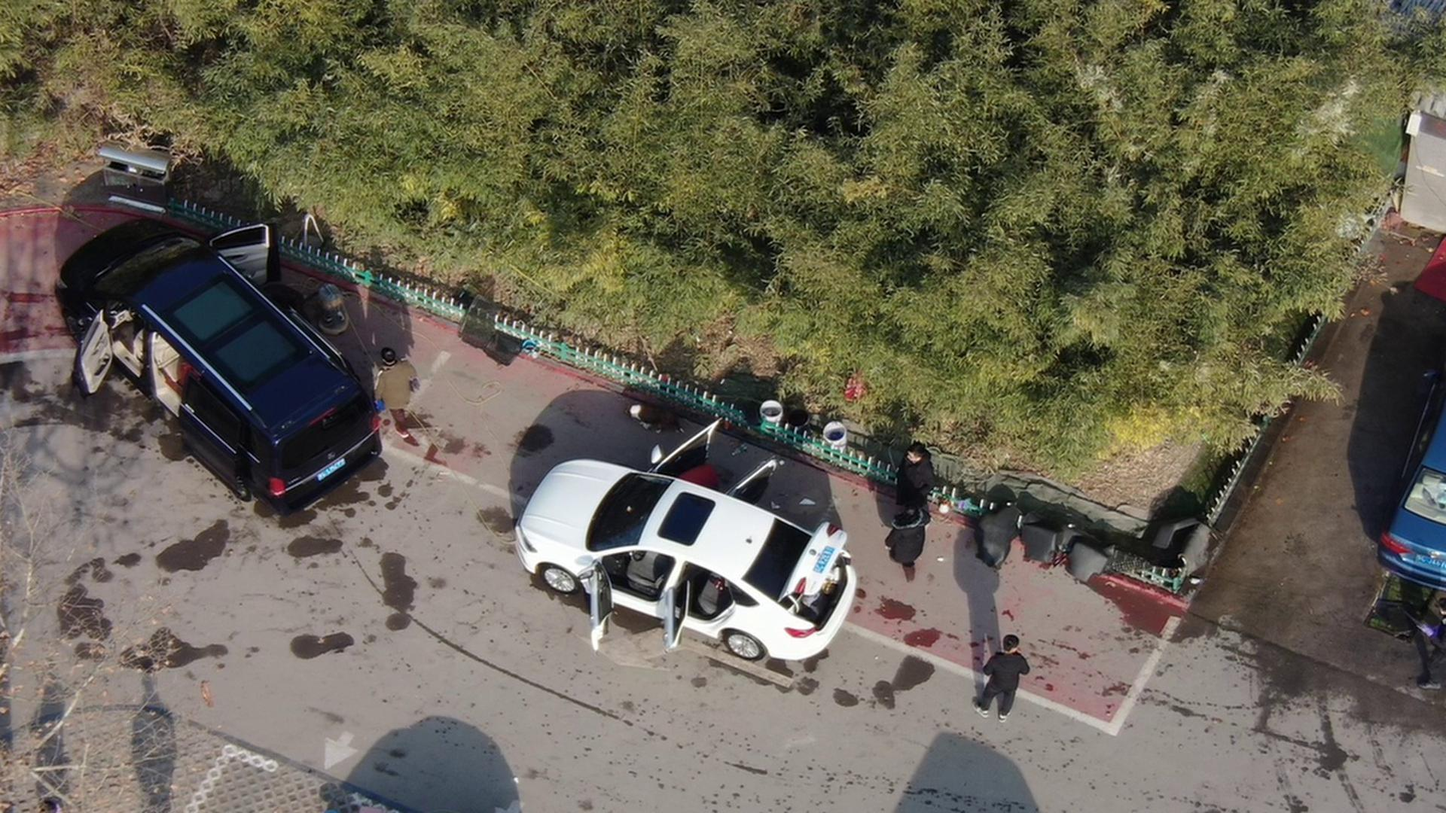human: (966, 623, 1033, 717), (375, 346, 429, 436), (882, 501, 927, 583), (1411, 592, 1446, 690), (894, 443, 935, 501), (680, 457, 725, 509), (264, 285, 310, 324)
